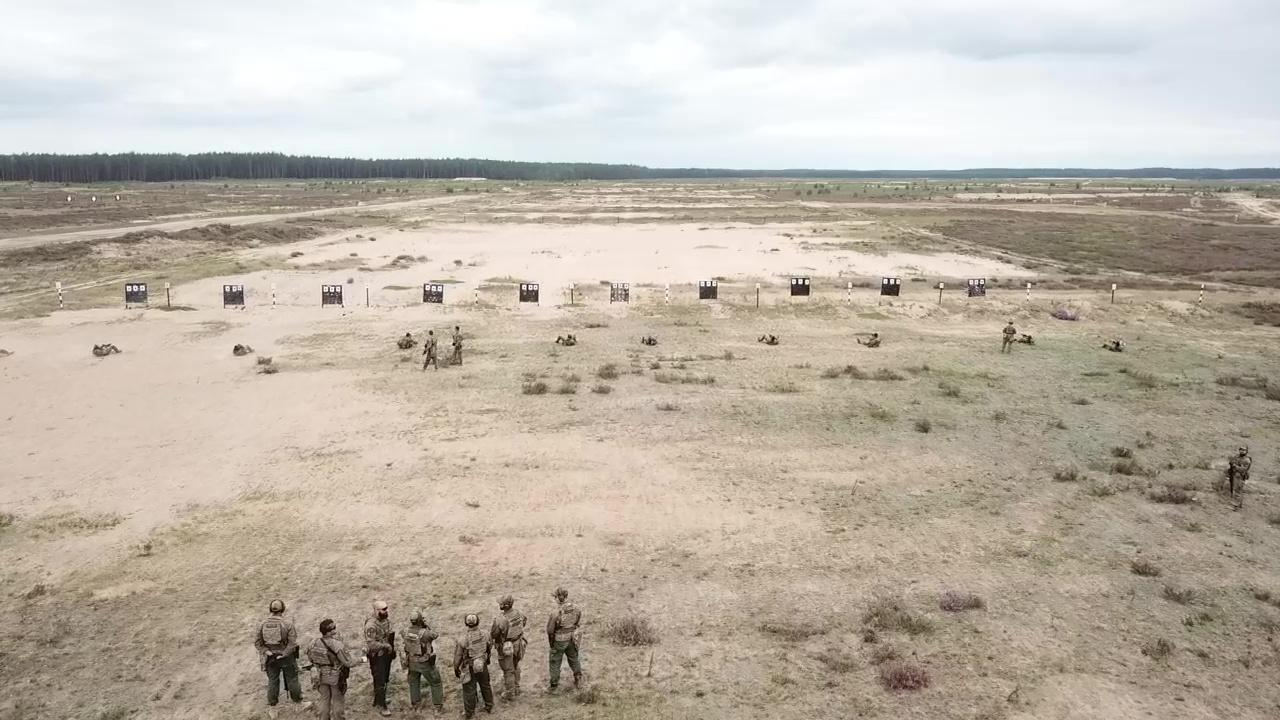Soldier: (250, 597, 309, 720), (305, 615, 368, 720), (396, 602, 448, 718), (451, 607, 498, 720), (544, 584, 586, 703), (361, 598, 398, 720), (491, 591, 528, 708), (1227, 443, 1254, 514), (421, 328, 442, 373), (449, 323, 467, 369), (999, 318, 1018, 356)
